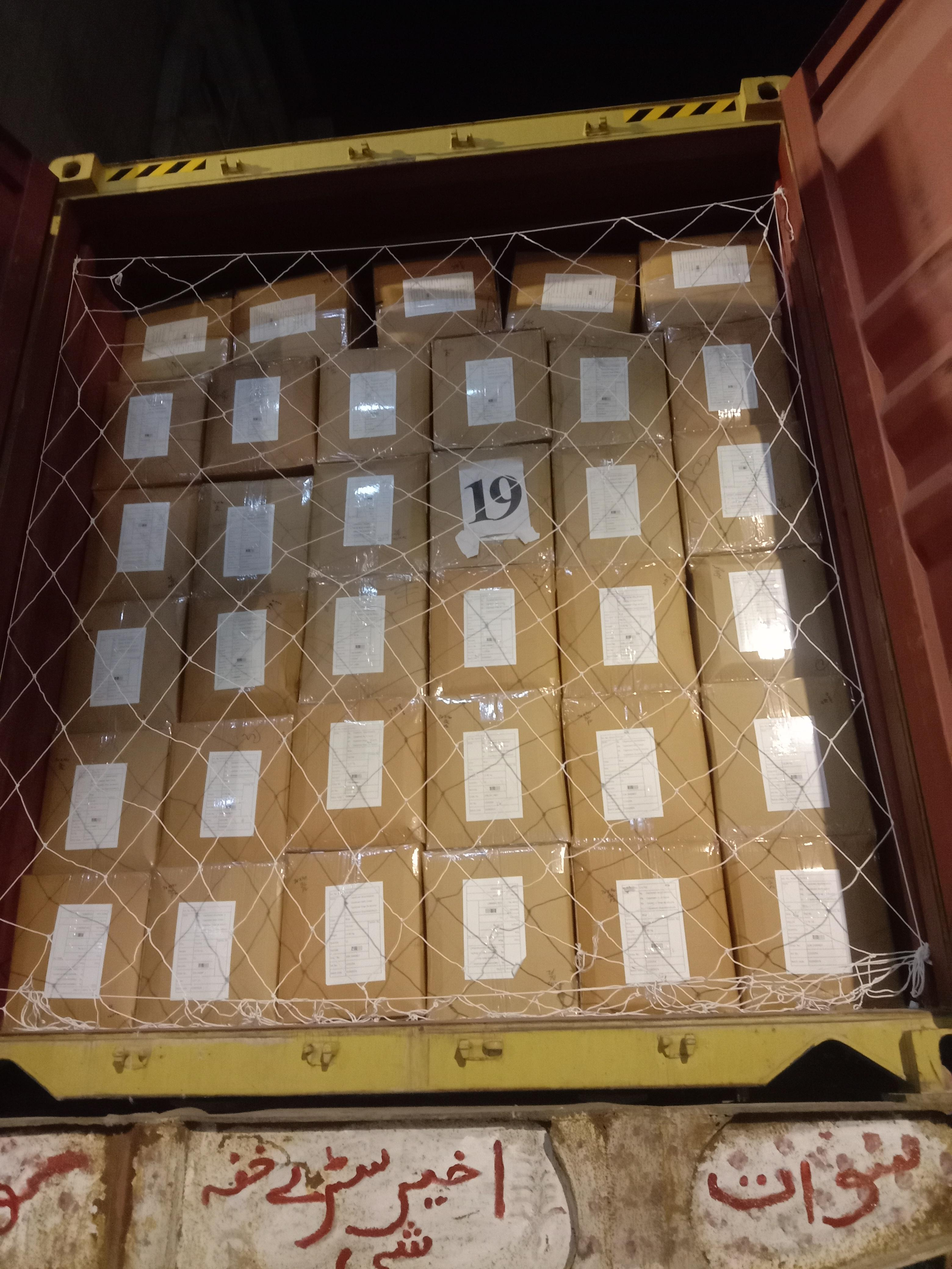carton: (723, 833, 897, 1009), (701, 674, 873, 847), (572, 840, 737, 1013), (423, 844, 577, 1021), (278, 845, 425, 1023), (136, 862, 283, 1028), (561, 689, 715, 846), (2, 869, 150, 1031), (426, 689, 569, 850), (287, 696, 426, 852), (689, 545, 840, 685), (33, 725, 170, 876), (158, 715, 293, 868), (673, 420, 820, 556), (556, 557, 697, 697), (57, 597, 186, 736), (428, 563, 559, 698), (299, 574, 428, 705), (552, 441, 683, 569), (181, 591, 306, 723), (429, 442, 554, 572), (77, 484, 199, 617), (665, 316, 794, 435), (308, 455, 428, 579), (192, 476, 312, 598), (549, 331, 671, 451), (431, 330, 551, 450), (639, 229, 779, 331), (203, 357, 318, 481), (92, 373, 207, 491), (317, 345, 431, 463), (373, 254, 502, 347), (232, 268, 350, 365), (506, 252, 636, 340), (119, 296, 233, 384)
